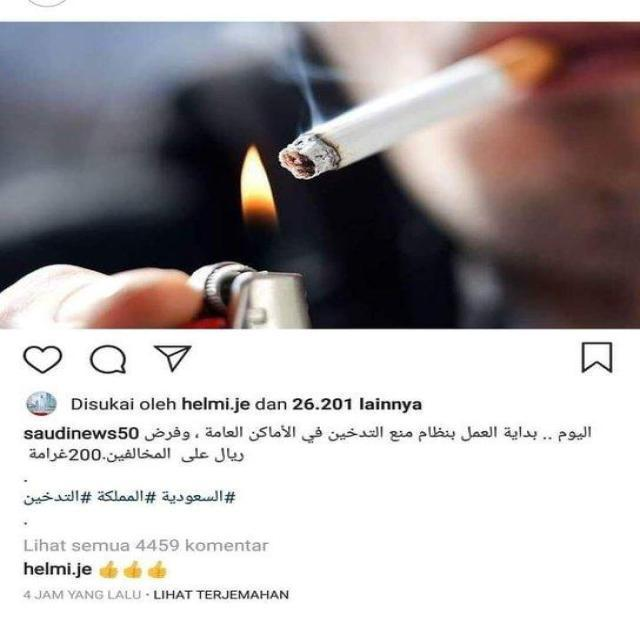rokok: (275, 40, 565, 188)
